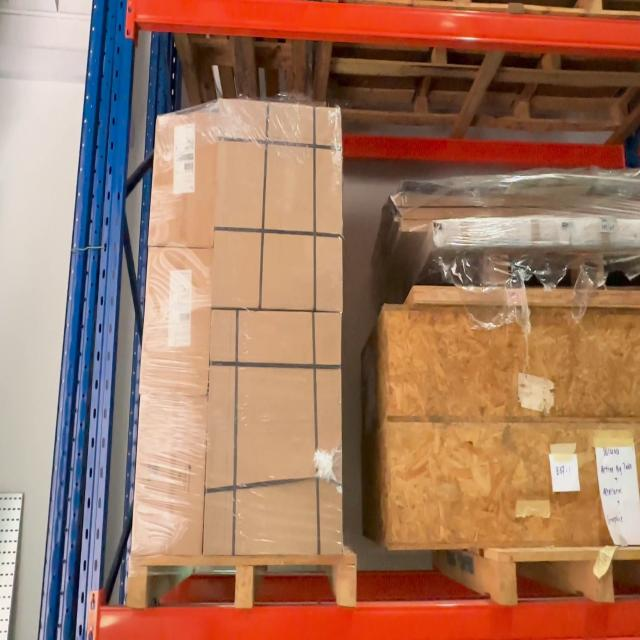box: (212, 310, 340, 552), (217, 109, 340, 305), (141, 396, 201, 553), (149, 248, 207, 393), (158, 117, 213, 245)
